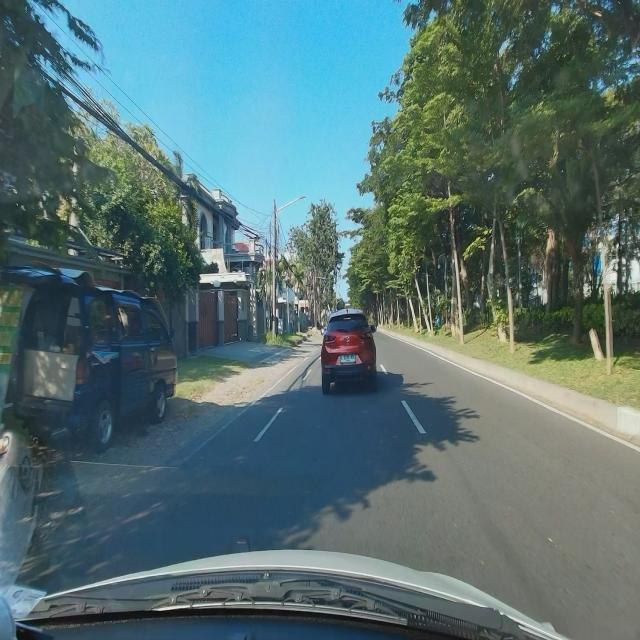car: (320, 307, 378, 396)
license-plate: (340, 352, 356, 364)
